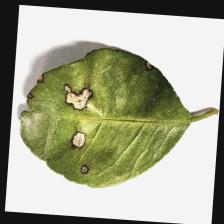canker: (20, 66, 108, 180)
